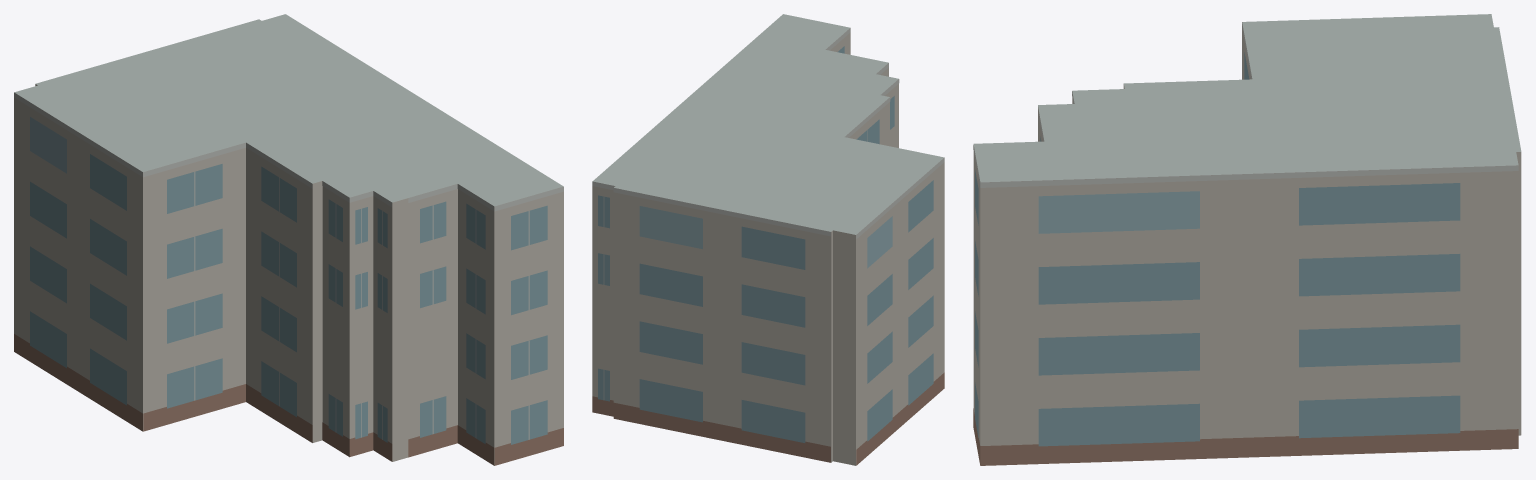
The model's file is survey-upis-32666431.glb.
The picture shows the model from 3 angles, left to right: view 1: azimuth 30°, elevation 25°; view 2: azimuth 150°, elevation 25°; view 3: azimuth 270°, elevation 25°; orthographic projection. The views are drawn at different scales.
Parts seen in each view (by area): view 1: survey-upis-32666431.tmp; view 2: survey-upis-32666431.tmp; view 3: survey-upis-32666431.tmp.
Boxes of the visible parts, x1=… form: survey-upis-32666431.tmp: x1=14, y1=14, x2=563, y2=465; survey-upis-32666431.tmp: x1=592, y1=14, x2=944, y2=465; survey-upis-32666431.tmp: x1=973, y1=14, x2=1521, y2=465.
Size of the model in its own units: 15.81 by 12.4 by 21.74.
